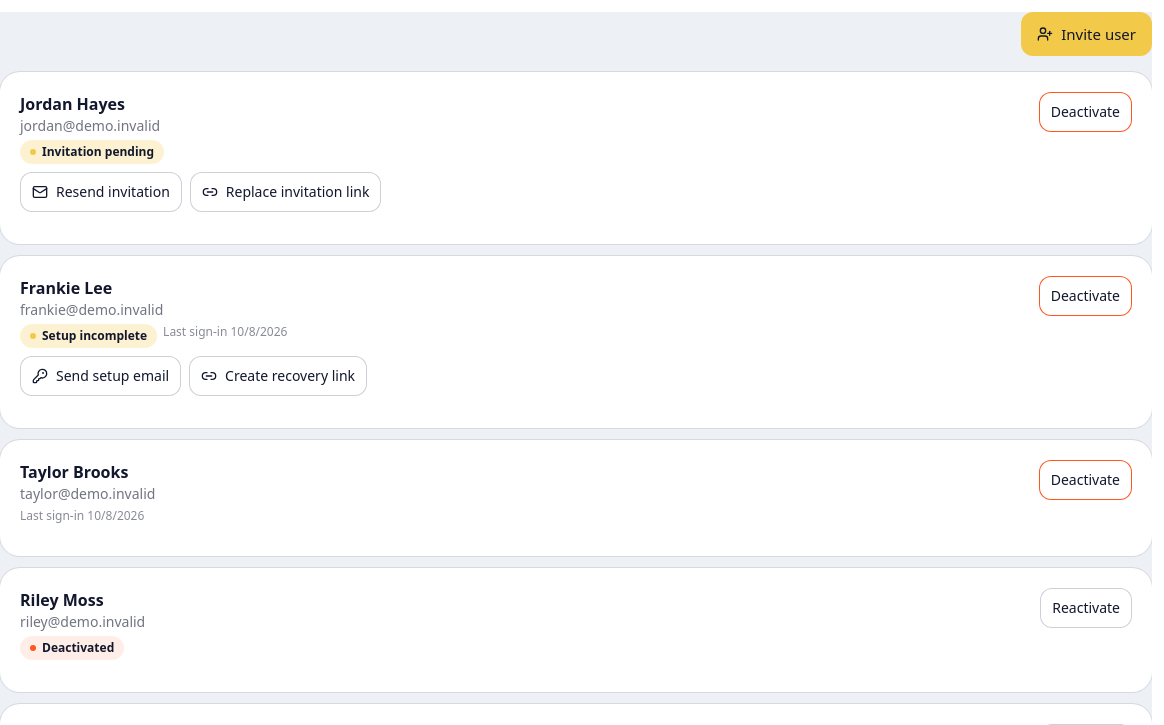
Test: invitation channel › Resend invitation → success toast
This screenshot has width=1164, height=725.
Click the button "Resend invitation": (101, 192) [20,172,182,212]
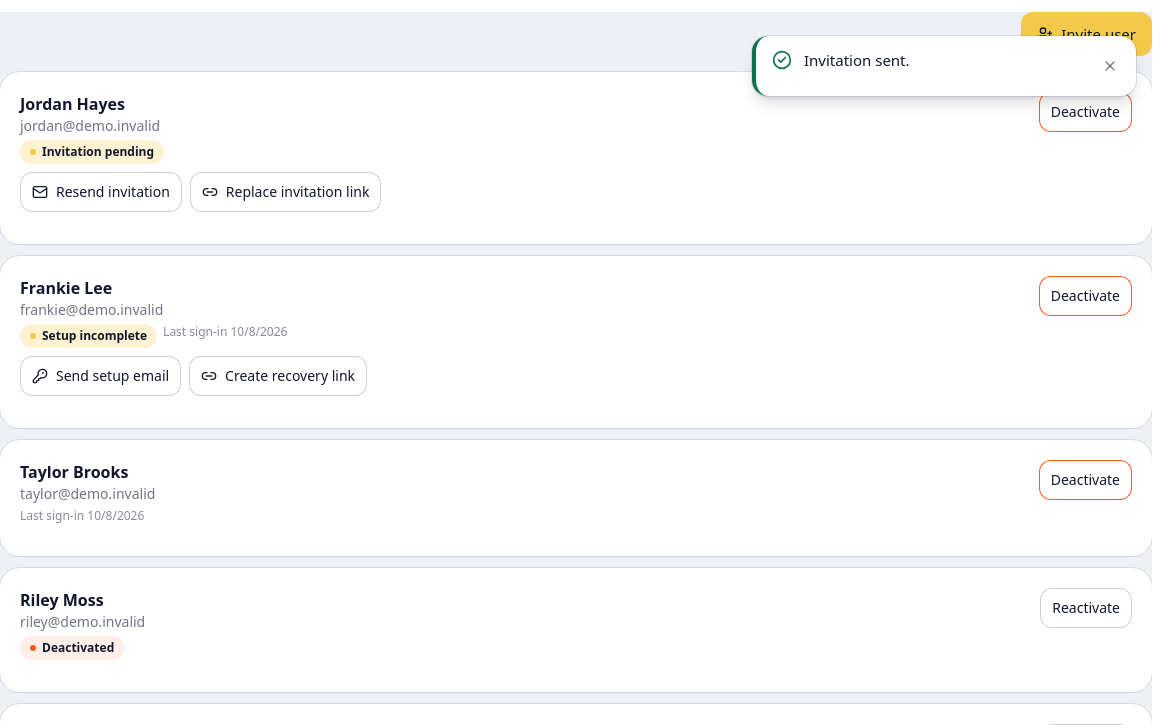
Expected: the text "Invitation sent." is shown, [803,49,910,70]
